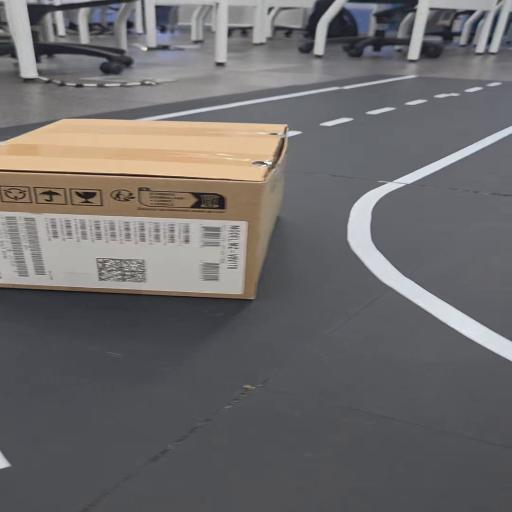Box: (3, 111, 300, 303)
